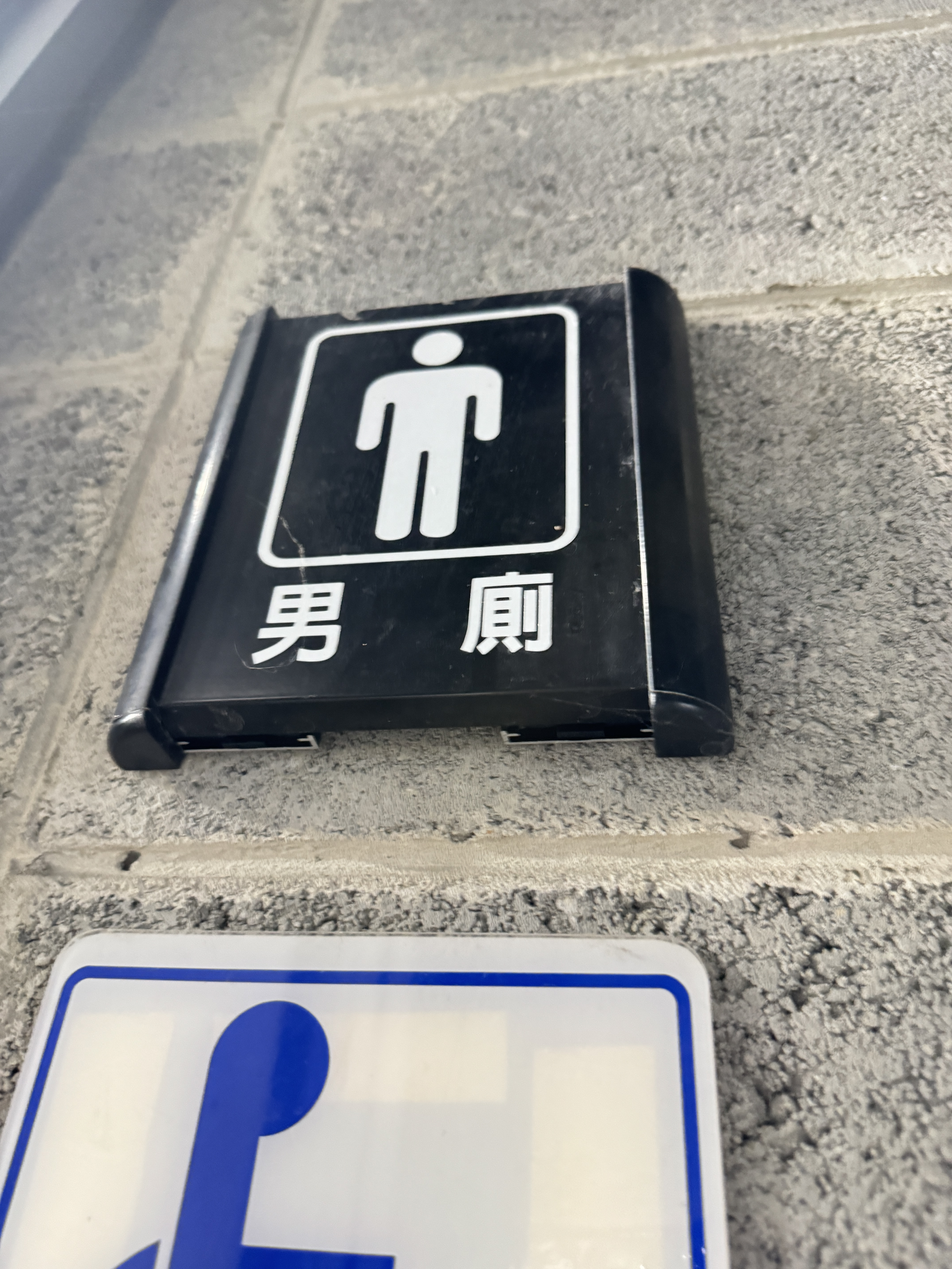toilet_sign: (82, 258, 763, 768), (93, 283, 756, 768)
